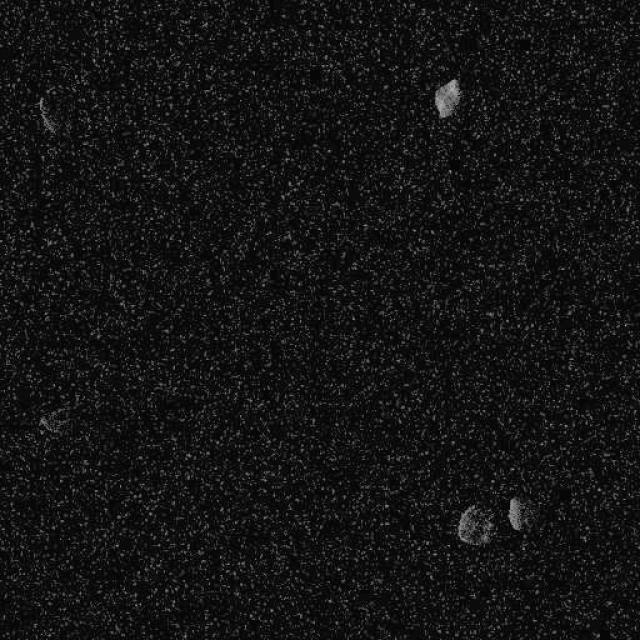D2: (455, 502, 495, 546), (432, 76, 462, 119), (36, 95, 58, 135), (506, 495, 525, 531)
